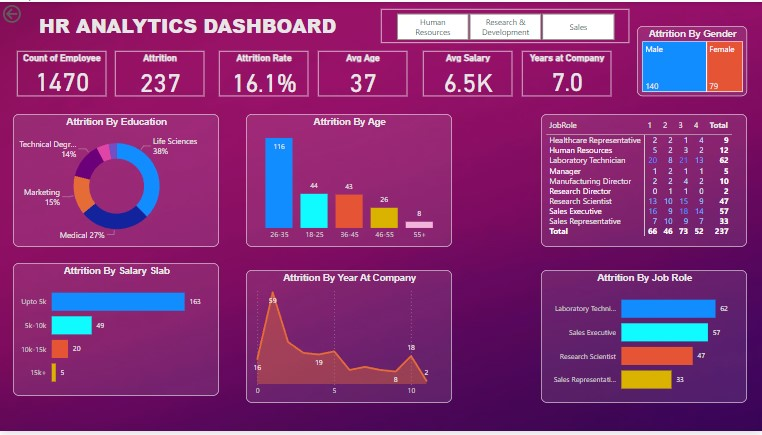

What the dashboard file says about the page in this screenshot:
{"tool":"powerbi","page":{"name":"Page 1","canvas":[1280,720],"ordinal":0},"visuals":[{"type":"card","title":"Count of Employee","fields":{"Values":["CountNonNull(HR_Analytics.EmpID)"]},"box":[28.6,82.3,149.5,75.6],"z":0},{"type":"card","title":"Avg Age","fields":{"Values":["Avg(HR_Analytics.Age)"]},"box":[534.2,82.3,149.5,75.6],"z":1000},{"type":"card","title":"Attrition","fields":{"Values":["Sum(HR_Analytics.Attrition Count)"]},"box":[193.2,82.3,149.5,75.6],"z":2000},{"type":"card","title":"Attrition Rate","fields":{"Values":["HR_Analytics.AttrtionRate"]},"box":[367.9,82.3,149.5,75.6],"z":3000},{"type":"card","title":"Years at Company","fields":{"Values":["Avg(HR_Analytics.YearsAtCompany)"]},"box":[876.9,82.3,149.5,75.6],"z":4000},{"type":"card","title":"Avg Salary","fields":{"Values":["Avg(HR_Analytics.MonthlyIncome)"]},"box":[710.6,82.3,149.5,75.6],"z":5000},{"type":"donutChart","title":"Attrition By Education","fields":{"Category":["HR_Analytics.EducationField"],"Y":["Sum(HR_Analytics.Attrition Count)"]},"box":[21.8,188.1,346,223.4],"z":6000},{"type":"columnChart","title":"Attrition By Age","fields":{"Category":["HR_Analytics.AgeGroup"],"Y":["Sum(HR_Analytics.Attrition Count)"]},"box":[413.2,188.1,346,223.4],"z":7000},{"type":"pivotTable","fields":{"Rows":["HR_Analytics.JobRole"],"Columns":["HR_Analytics.JobSatisfaction"],"Values":["Sum(HR_Analytics.Attrition Count)"]},"box":[908.8,188.1,346,223.4],"z":8000},{"type":"actionButton","box":[0,0,100,40],"z":9000},{"type":"barChart","title":"Attrition By Salary Slab","fields":{"Category":["HR_Analytics.SalarySlab"],"Y":["Sum(HR_Analytics.Attrition Count)"]},"box":[21.8,438.4,346,223.4],"z":10000},{"type":"barChart","title":"Attrition By Job Role","fields":{"Y":["Sum(HR_Analytics.Attrition Count)"],"Category":["HR_Analytics.JobRole"]},"box":[908.8,450.2,346,223.4],"z":11000},{"type":"areaChart","title":"Attrition By Year At Company","fields":{"Category":["HR_Analytics.YearsAtCompany"],"Y":["Sum(HR_Analytics.Attrition Count)"]},"box":[413.2,450.2,346,223.4],"z":12000},{"type":"treemap","title":"Attrition By Gender","fields":{"Group":["HR_Analytics.Gender"],"Values":["Sum(HR_Analytics.Attrition Count)"]},"box":[1070,40.3,184.8,117.6],"z":13000},{"type":"slicer","fields":{"Values":["HR_Analytics.Department"]},"box":[640,11.8,416.6,57.1],"z":13001},{"type":"textbox","box":[21.8,11.8,586.2,57.1],"z":13002}]}

Visuals, with their boxes in screenshot pixels (x1, y1, x2, y2), scaled from the page's 1280x720 canvas onto the 762x435 screenshot:
"Count of Employee" card: 17:50:106:95
"Avg Age" card: 318:50:407:95
"Attrition" card: 115:50:204:95
"Attrition Rate" card: 219:50:308:95
"Years at Company" card: 522:50:611:95
"Avg Salary" card: 423:50:512:95
"Attrition By Education" donutChart: 13:114:219:249
"Attrition By Age" columnChart: 246:114:452:249
pivotTable - HR_Analytics.JobRole x HR_Analytics.JobSatisfaction: 541:114:747:249
actionButton: 0:0:60:24
"Attrition By Salary Slab" barChart: 13:265:219:400
"Attrition By Job Role" barChart: 541:272:747:407
"Attrition By Year At Company" areaChart: 246:272:452:407
"Attrition By Gender" treemap: 637:24:747:95
slicer - HR_Analytics.Department: 381:7:629:42
textbox: 13:7:362:42
